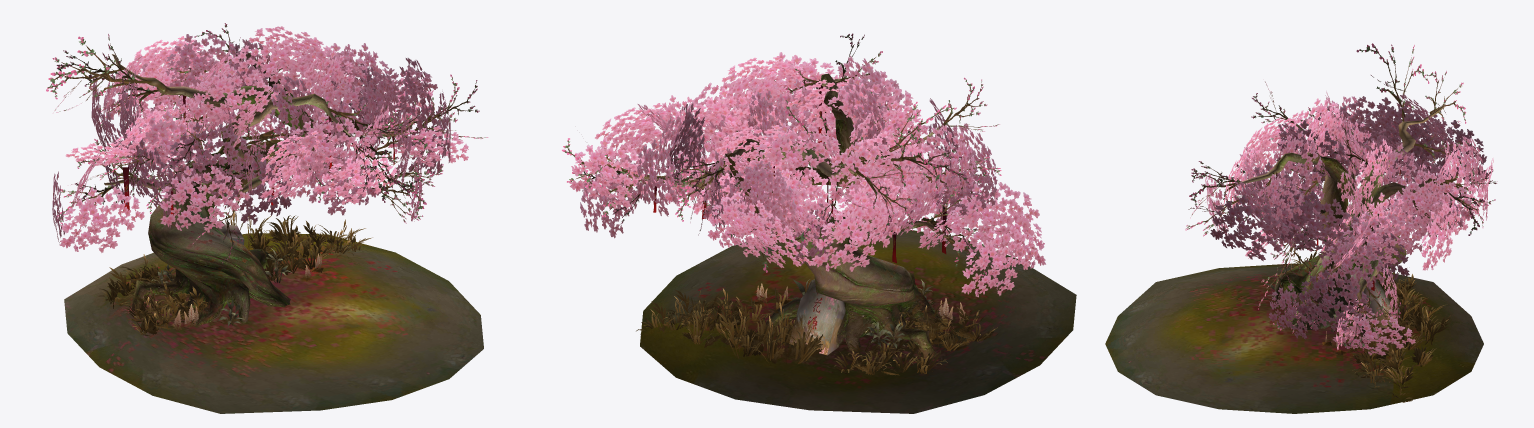
File: tree.FBX
The picture shows the model from 3 angles, left to right: view 1: azimuth 30°, elevation 25°; view 2: azimuth 150°, elevation 25°; view 3: azimuth 270°, elevation 25°; orthographic projection. The views are drawn at different scales.
Visible parts, largest first — view 1: tree; view 2: tree; view 3: tree.
Boxes of the visible parts, bbox=[...] form: tree: bbox=[46, 23, 488, 413]; tree: bbox=[562, 33, 1076, 413]; tree: bbox=[1105, 43, 1497, 413].
Bounding box in the file's own units: 7.4 × 4.62 × 6.53.
